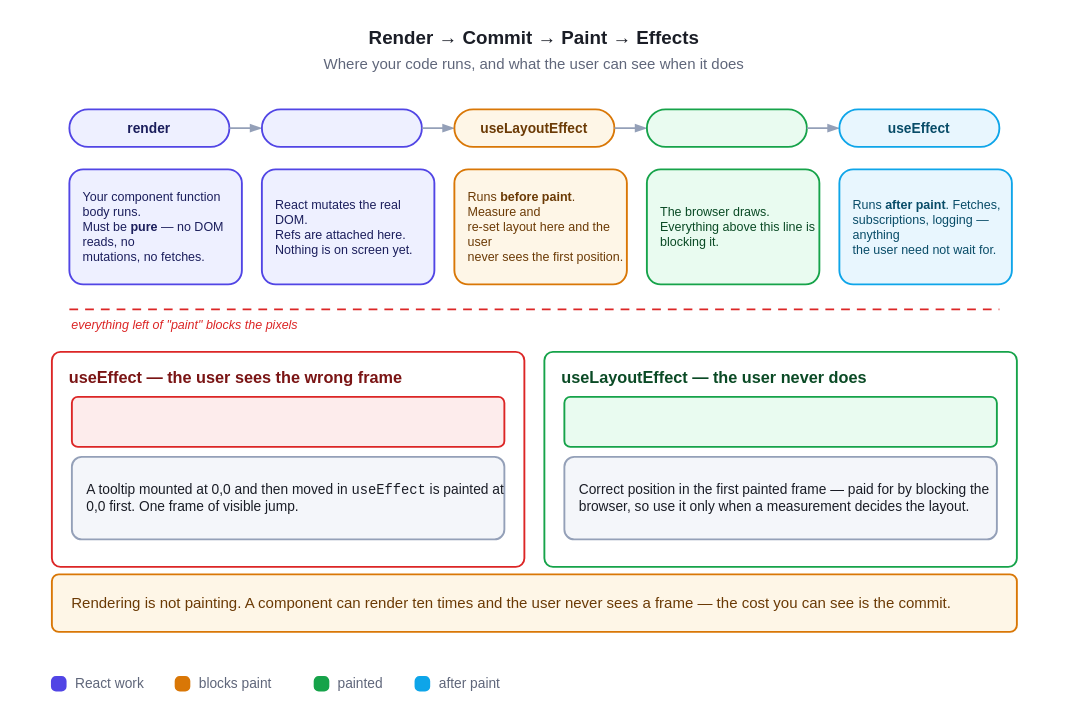
Some shapes in this 1068 by 715 pixel diagram are drawn without their labels. Each missing label, with the centre of its shape:
commit DOM: (x=341, y=127)
paint: (x=726, y=127)
render → commit → layout effect (move it) → paint once: (x=780, y=421)
render → commit → paint (wrong position) → effect → paint again: (x=287, y=421)
